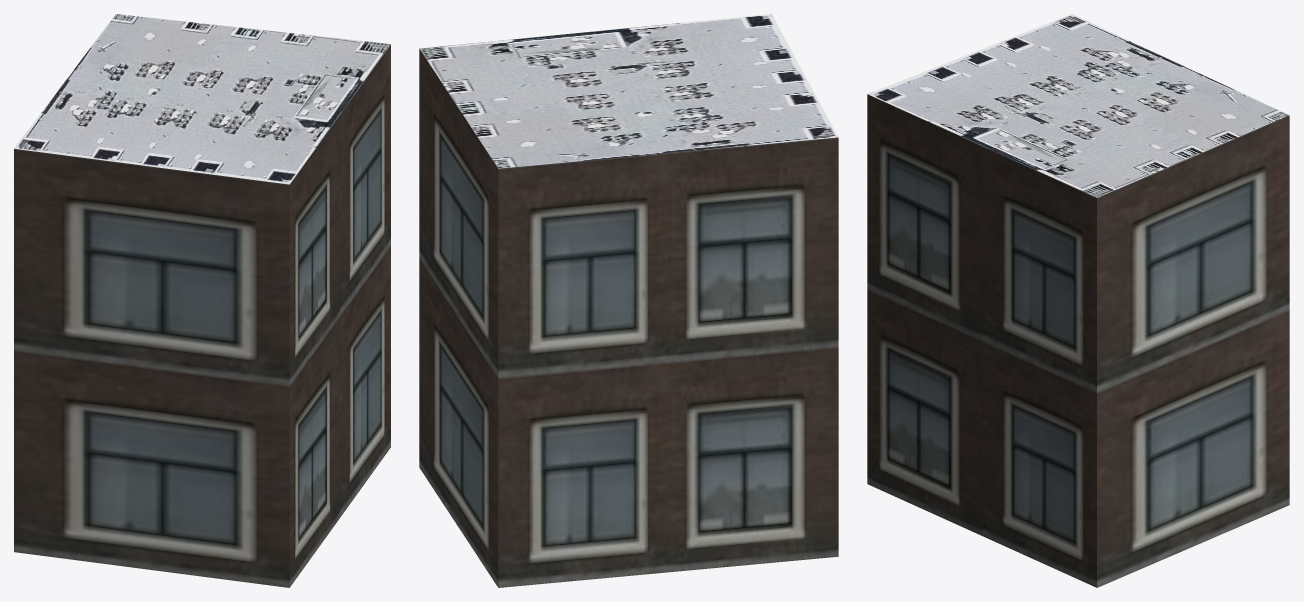
The model's file is ResTex__1643.fbx.
The picture shows the model from 3 angles, left to right: view 1: azimuth 30°, elevation 25°; view 2: azimuth 150°, elevation 25°; view 3: azimuth 270°, elevation 25°; orthographic projection. The views are drawn at different scales.
Parts seen in each view (by area): view 1: CityEngineMaterial_16_m, CityEngineMaterial_15_m; view 2: CityEngineMaterial_16_m, CityEngineMaterial_15_m; view 3: CityEngineMaterial_16_m, CityEngineMaterial_15_m.
Boxes of the visible parts, x1,y1,x2,y2 form: CityEngineMaterial_16_m: (14,44,390,587); CityEngineMaterial_15_m: (14,14,390,184); CityEngineMaterial_16_m: (419,49,838,587); CityEngineMaterial_15_m: (420,14,838,168); CityEngineMaterial_16_m: (867,94,1289,587); CityEngineMaterial_15_m: (868,14,1288,197).
Size of the model in its own units: 6.07 by 6 by 5.89.
2 materials, 2 textured.
